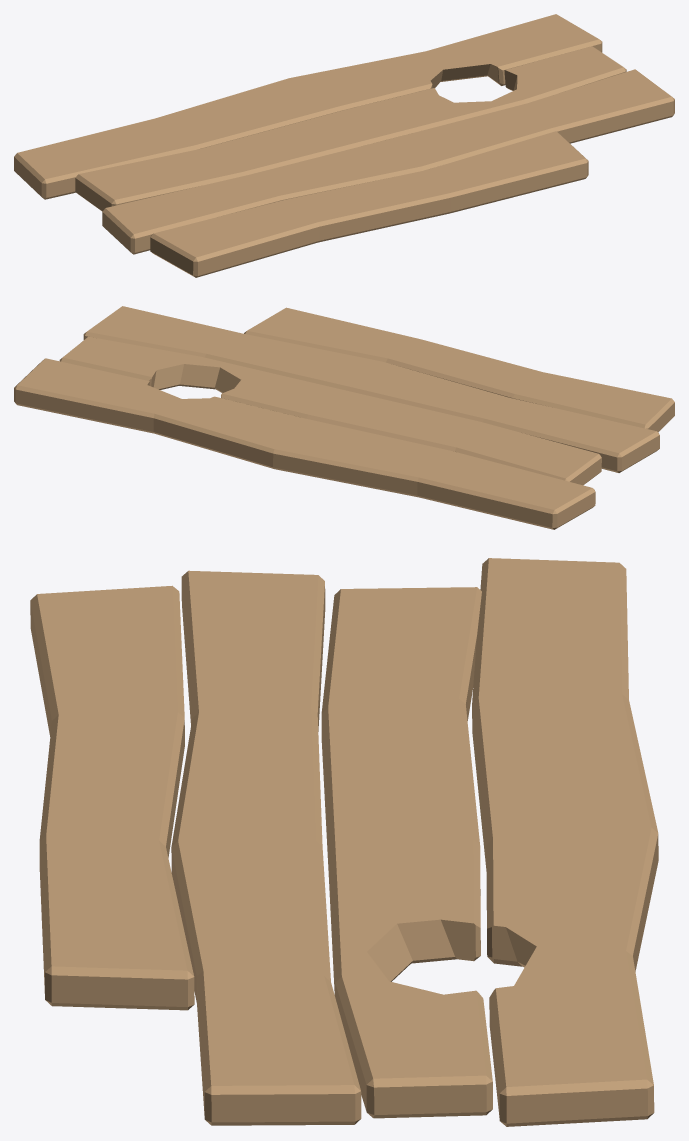
File: TreePlatform2.fbx
3 renders of one model, top to bottom at view 1: azimuth 30°, elevation 25°; view 2: azimuth 150°, elevation 25°; view 3: azimuth 270°, elevation 25°, orthographic. The views are drawn at different scales.
Parts seen in each view (by area): view 1: TreePlatform2; view 2: TreePlatform2; view 3: TreePlatform2.
Boxes of the visible parts, x1,y1,x2,y2 form: TreePlatform2: [14, 14, 674, 277]; TreePlatform2: [14, 306, 674, 529]; TreePlatform2: [30, 558, 658, 1126].
Bounding box in the file's own units: 481 × 18.64 × 238.
Materials: 1 (1 with a texture image).
